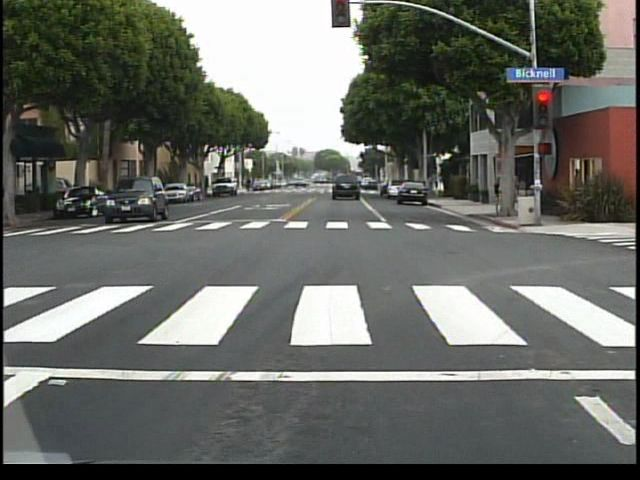car: (101, 175, 171, 221), (55, 185, 102, 219), (330, 172, 361, 201), (397, 179, 429, 205), (213, 173, 238, 198)
striscie pedonali: (8, 286, 640, 348), (19, 222, 501, 234)
